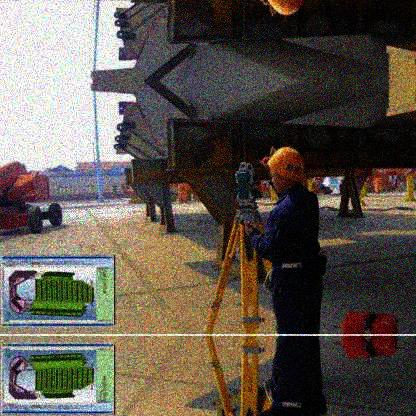helmet: (267, 144, 305, 196)
